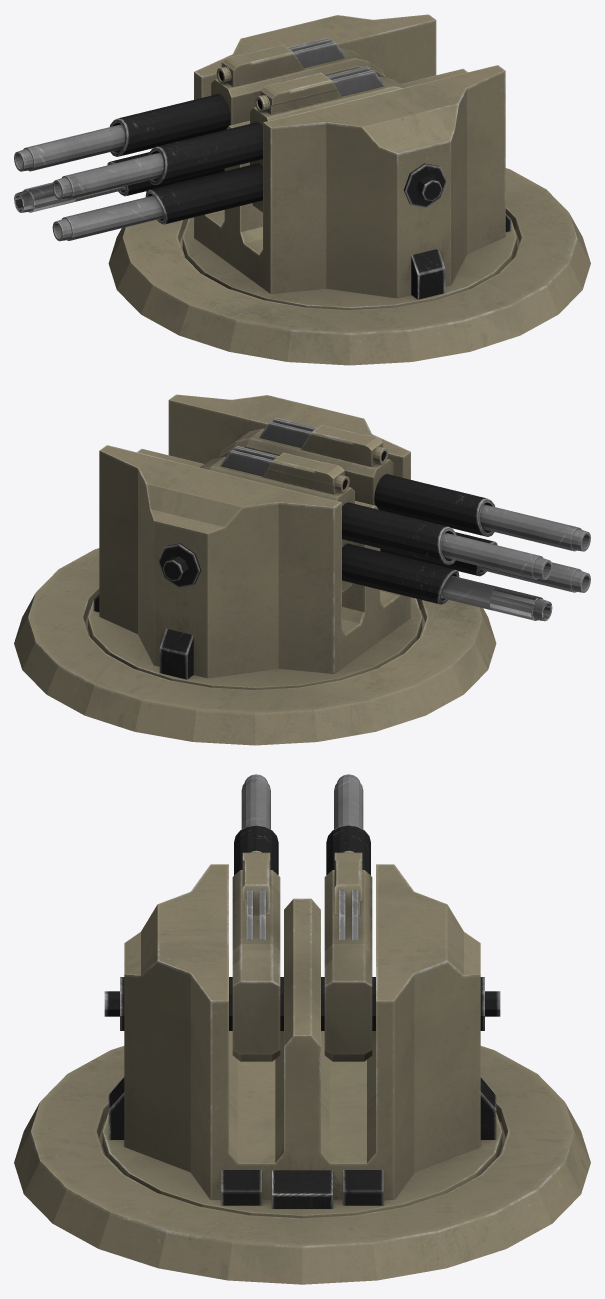
File: turret.FBX
3 renders of one model, top to bottom at view 1: azimuth 30°, elevation 25°; view 2: azimuth 150°, elevation 25°; view 3: azimuth 270°, elevation 25°, orthographic. The views are drawn at different scales.
Parts seen in each view (by area): view 1: Body, Stand, BarrelStand, Barrel1, Barrel0, Barrel2, Barrel3; view 2: Body, Stand, BarrelStand, Barrel0, Barrel1, Barrel3, Barrel2; view 3: Body, Stand, BarrelStand, Barrel1, Barrel0.
Boxes of the visible parts, bbox=[...] form: Body: bbox=[182, 14, 516, 309]; Stand: bbox=[108, 168, 590, 365]; BarrelStand: bbox=[107, 37, 404, 224]; Barrel1: bbox=[52, 152, 163, 199]; Barrel0: bbox=[14, 124, 125, 171]; Barrel2: bbox=[52, 195, 163, 241]; Barrel3: bbox=[14, 182, 125, 212]; Body: bbox=[88, 394, 422, 689]; Stand: bbox=[14, 548, 496, 745]; BarrelStand: bbox=[200, 417, 497, 604]; Barrel0: bbox=[441, 532, 552, 579]; Barrel1: bbox=[479, 504, 590, 551]; Barrel3: bbox=[441, 575, 552, 621]; Barrel2: bbox=[479, 562, 590, 592]; Body: bbox=[102, 864, 502, 1218]; Stand: bbox=[14, 1046, 590, 1284]; BarrelStand: bbox=[232, 825, 372, 1061]; Barrel1: bbox=[241, 774, 270, 829]; Barrel0: bbox=[334, 774, 363, 829].
Size of the model in its own units: 9.63 by 3.74 by 7.73.
Materials: 1 (1 with a texture image).
